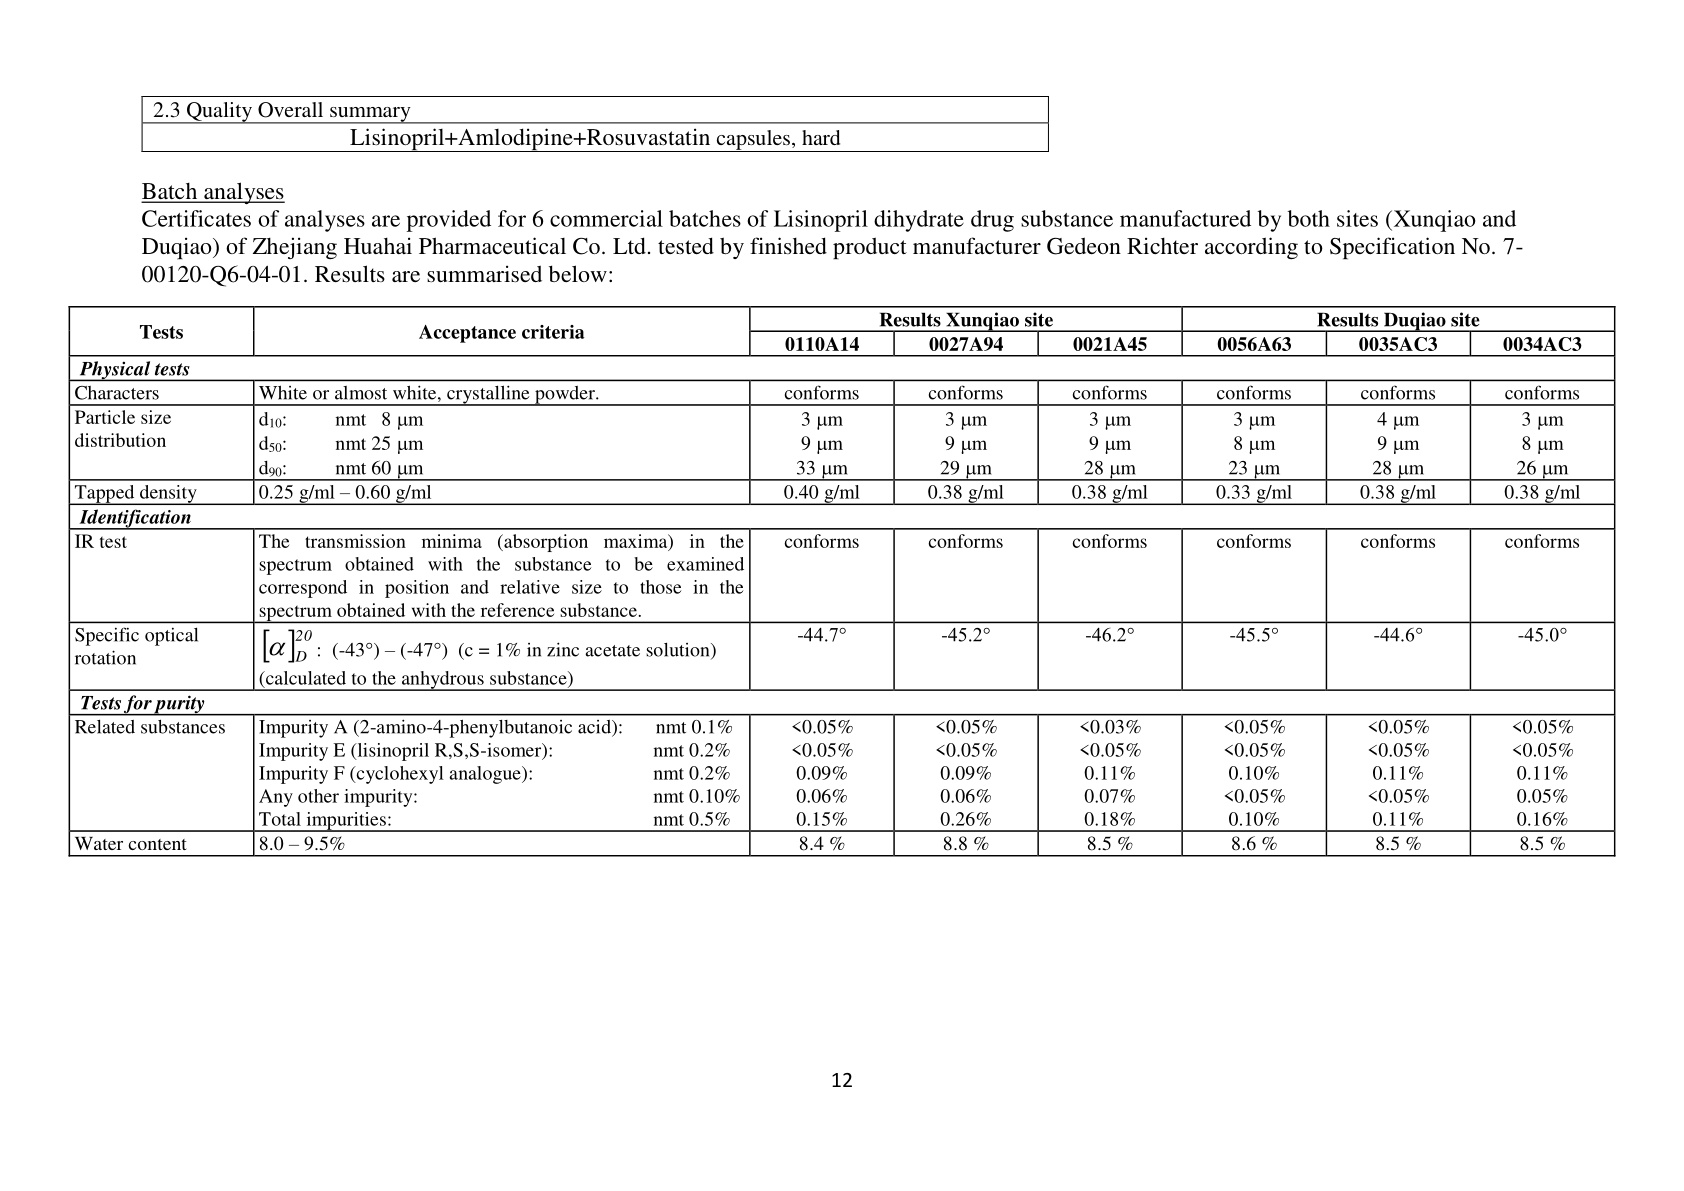full_lined: (140, 95, 1049, 152)
merged_cells: (68, 305, 1616, 857)
